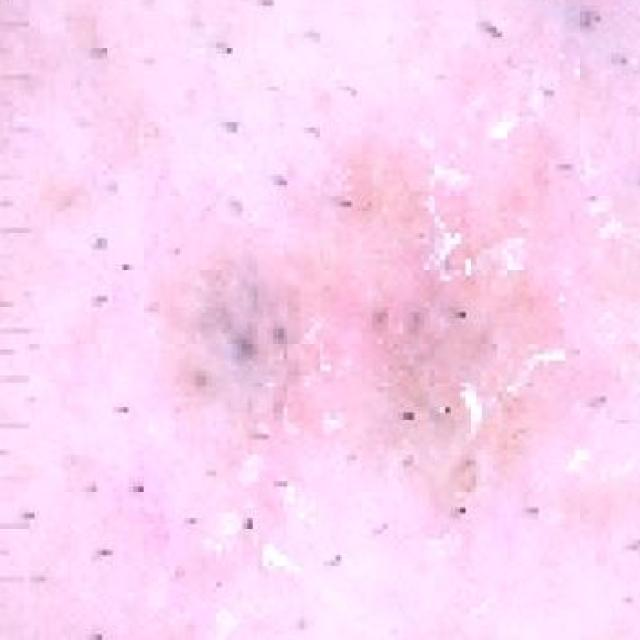BCC: (8, 77, 616, 640)
